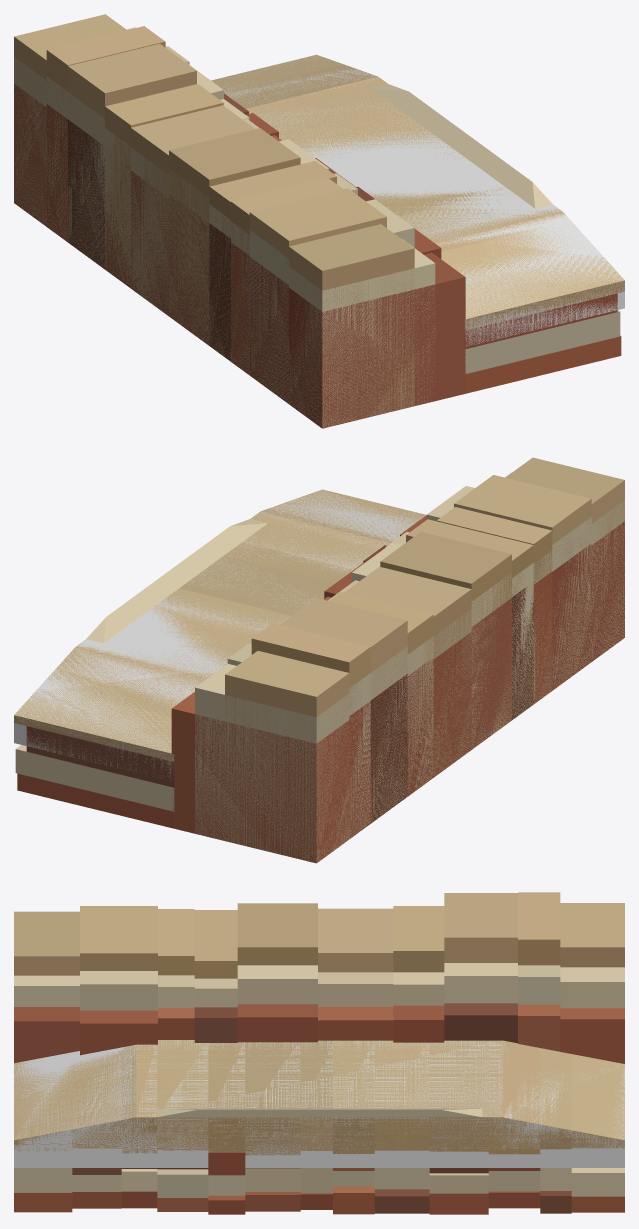
The model's file is mesa_rim_ledge.glb.
3 renders of one model, top to bottom at view 1: azimuth 30°, elevation 25°; view 2: azimuth 150°, elevation 25°; view 3: azimuth 270°, elevation 25°, orthographic.
Visible parts, largest first — view 1: mesa_rim_ledge, mesa_rim_ledge-col; view 2: mesa_rim_ledge, mesa_rim_ledge-col; view 3: mesa_rim_ledge, mesa_rim_ledge-col.
Part boxes in pixels (<box>): mesa_rim_ledge: <box>14,14,624,428</box>; mesa_rim_ledge-col: <box>212,55,624,346</box>; mesa_rim_ledge: <box>14,457,624,863</box>; mesa_rim_ledge-col: <box>14,489,423,780</box>; mesa_rim_ledge: <box>14,892,624,1214</box>; mesa_rim_ledge-col: <box>14,1040,624,1167</box>.
Size of the model in its own units: 34.17 by 19.02 by 60.
